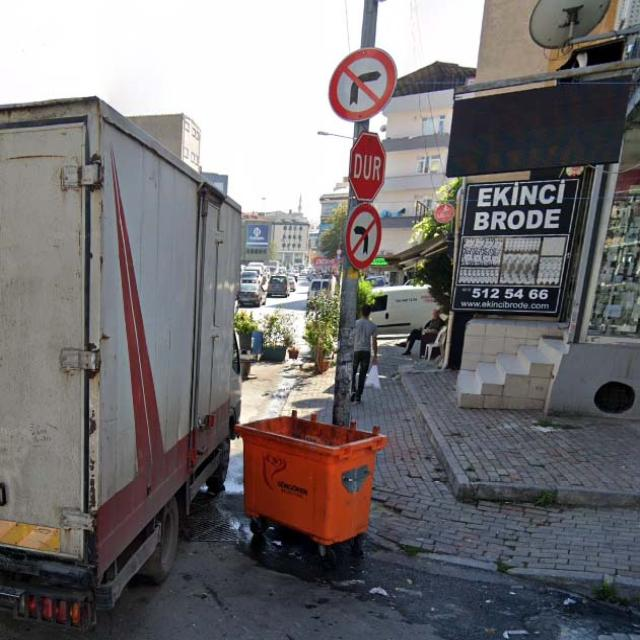dur: (348, 131, 386, 202)
sagadonulmez: (328, 47, 397, 121)
soladonulmez: (345, 204, 381, 270)
